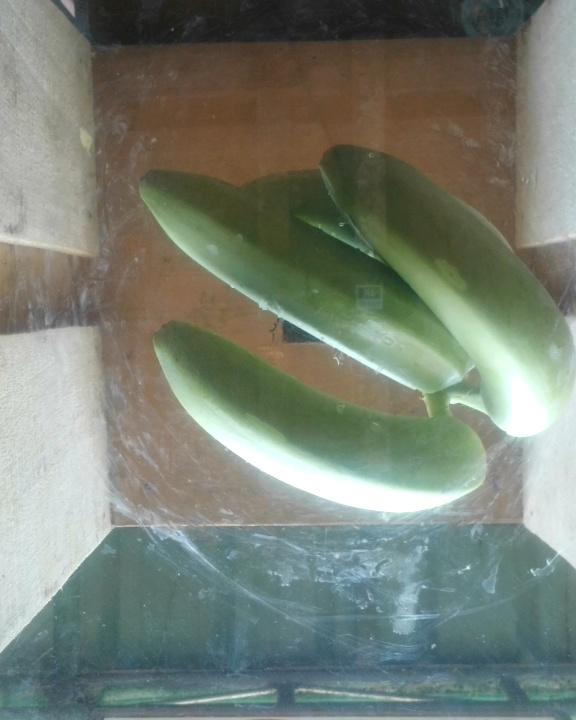SPOT: (127, 138, 576, 524)
